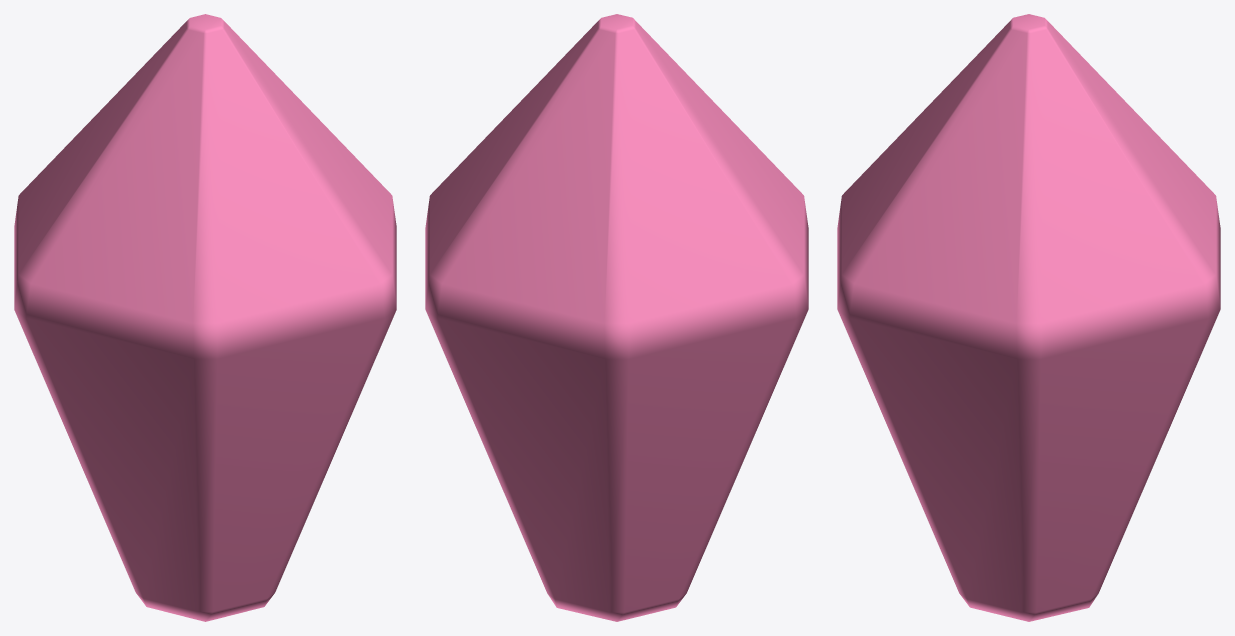
The model's file is Crystal2.fbx.
The picture shows the model from 3 angles, left to right: view 1: azimuth 30°, elevation 25°; view 2: azimuth 150°, elevation 25°; view 3: azimuth 270°, elevation 25°; orthographic projection.
Parts seen in each view (by area): view 1: Crystal2; view 2: Crystal2; view 3: Crystal2.
Boxes of the visible parts, left/top/right/bottom form: Crystal2: left=14, top=14, right=396, bottom=621; Crystal2: left=425, top=14, right=808, bottom=621; Crystal2: left=837, top=14, right=1220, bottom=621.
Size of the model in its own units: 43.65 by 64.22 by 39.01.
